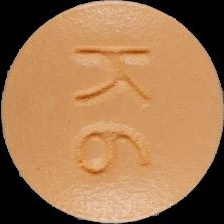63187-094: (0, 0, 224, 224)
